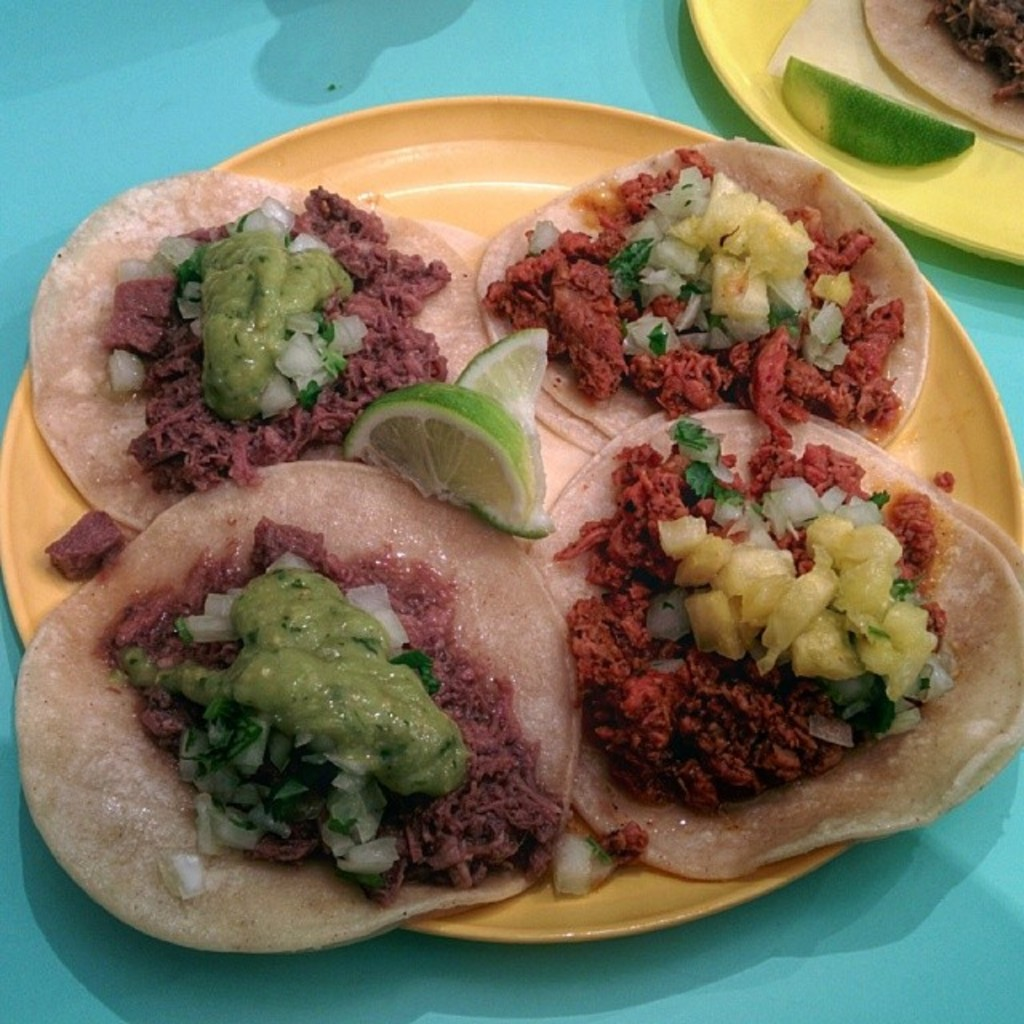taco: (22, 488, 576, 957), (509, 408, 1022, 878), (27, 165, 507, 566), (483, 122, 938, 459)
